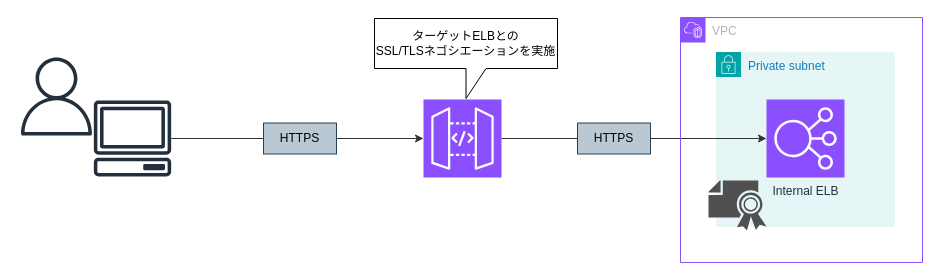
This 940x280 diagram has some shape labels left out. The shapes that lost their labels are listed below. From the top down, each one's box as (x1, y1, x2, y2) in pixels, then its label:
(17, 57, 95, 135): User
(422, 98, 502, 178): API Gateway
(708, 180, 766, 230): Server Certificate
